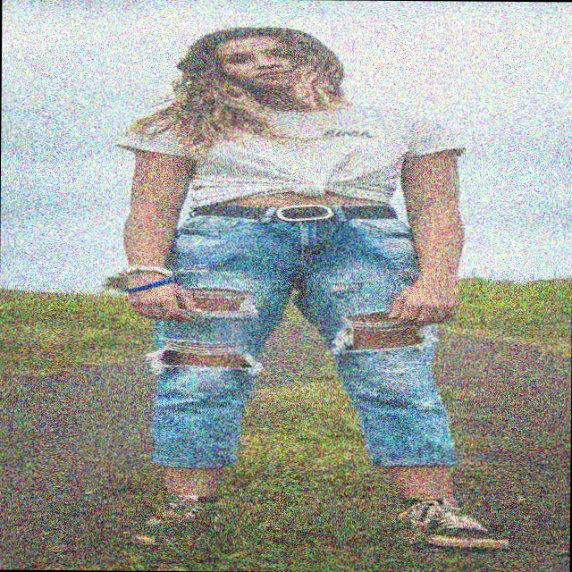Crop_Top: (192, 111, 406, 209)
ripped_pants: (140, 201, 467, 475)
